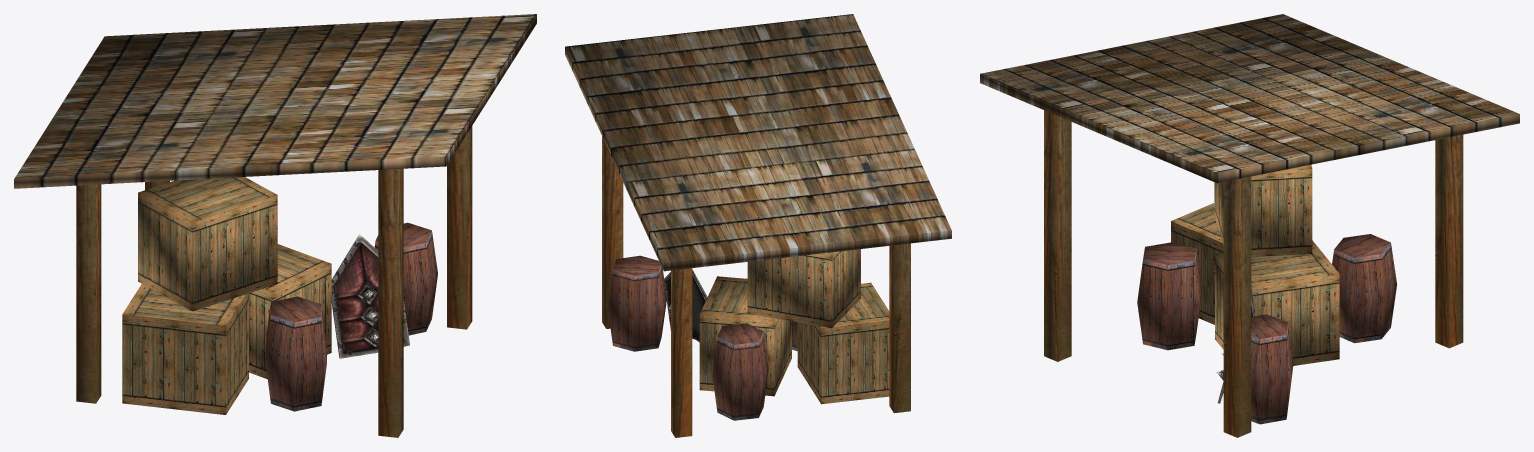
Rendered from Shed.fbx.
The picture shows the model from 3 angles, left to right: view 1: azimuth 30°, elevation 25°; view 2: azimuth 150°, elevation 25°; view 3: azimuth 270°, elevation 25°; orthographic projection. The views are drawn at different scales.
Parts seen in each view (by area): view 1: Shed, Crate_ncl1_1, Crate, Barrel, shield, Crate_ncl1_2, Barrel_ncl1_1; view 2: Shed, Crate, Crate_ncl1_1, Crate_ncl1_2, Barrel_ncl1_1, Barrel_ncl1_2, shield; view 3: Shed, Crate_ncl1_2, Barrel, Crate_ncl1_1, Barrel_ncl1_2, Barrel_ncl1_1, Crate.
Part boxes in pixels (bbox=[...]): Shed: bbox=[14, 14, 536, 437]; Crate_ncl1_1: bbox=[138, 177, 277, 311]; Crate: bbox=[122, 284, 248, 414]; Barrel: bbox=[265, 296, 326, 411]; shield: bbox=[331, 234, 409, 358]; Crate_ncl1_2: bbox=[249, 244, 331, 379]; Barrel_ncl1_1: bbox=[374, 222, 437, 335]; Shed: bbox=[565, 14, 951, 437]; Crate: bbox=[797, 282, 889, 404]; Crate_ncl1_1: bbox=[747, 249, 860, 328]; Crate_ncl1_2: bbox=[699, 276, 791, 396]; Barrel_ncl1_1: bbox=[607, 255, 666, 351]; Barrel_ncl1_2: bbox=[712, 323, 768, 420]; shield: bbox=[664, 269, 707, 342]; Shed: bbox=[980, 14, 1519, 437]; Crate_ncl1_2: bbox=[1215, 240, 1339, 365]; Barrel: bbox=[1137, 242, 1202, 350]; Crate_ncl1_1: bbox=[1214, 164, 1312, 257]; Barrel_ncl1_2: bbox=[1332, 234, 1397, 343]; Barrel_ncl1_1: bbox=[1251, 314, 1293, 424]; Crate: bbox=[1171, 203, 1223, 324].
Bounding box in the file's own units: 52.6 × 31.56 × 52.6.
5 materials, 5 textured.
